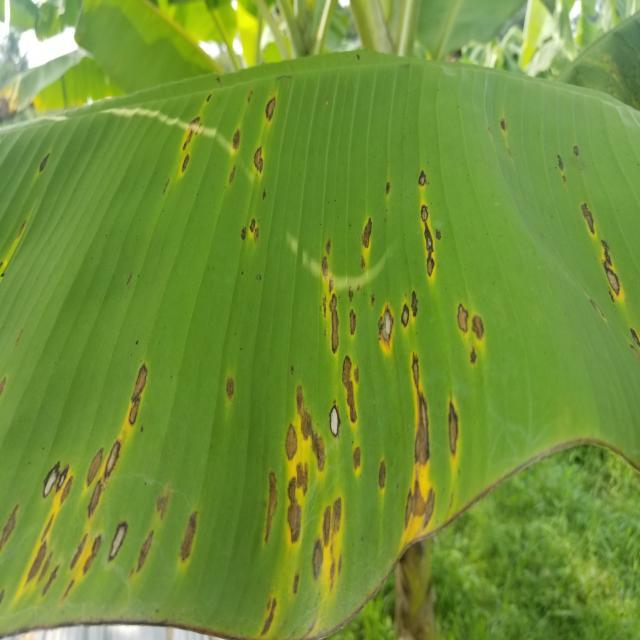Early_rust: (5, 64, 640, 636)
